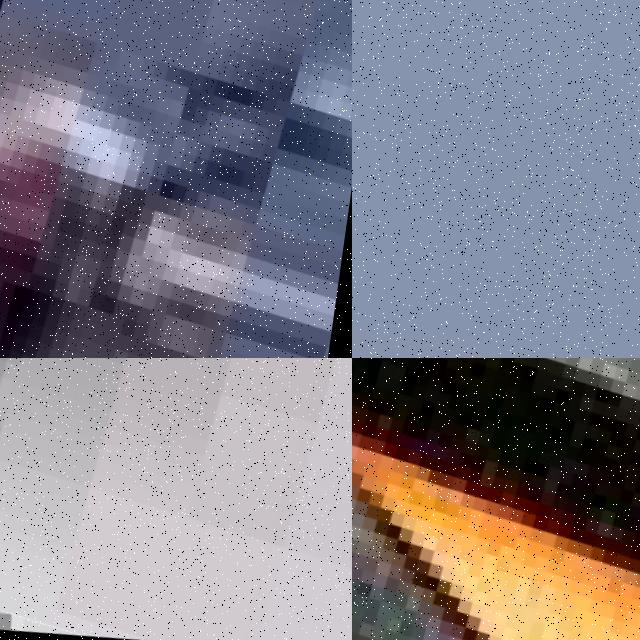0: (0, 0, 352, 358), (0, 358, 352, 640)
drone: (352, 358, 640, 640)
